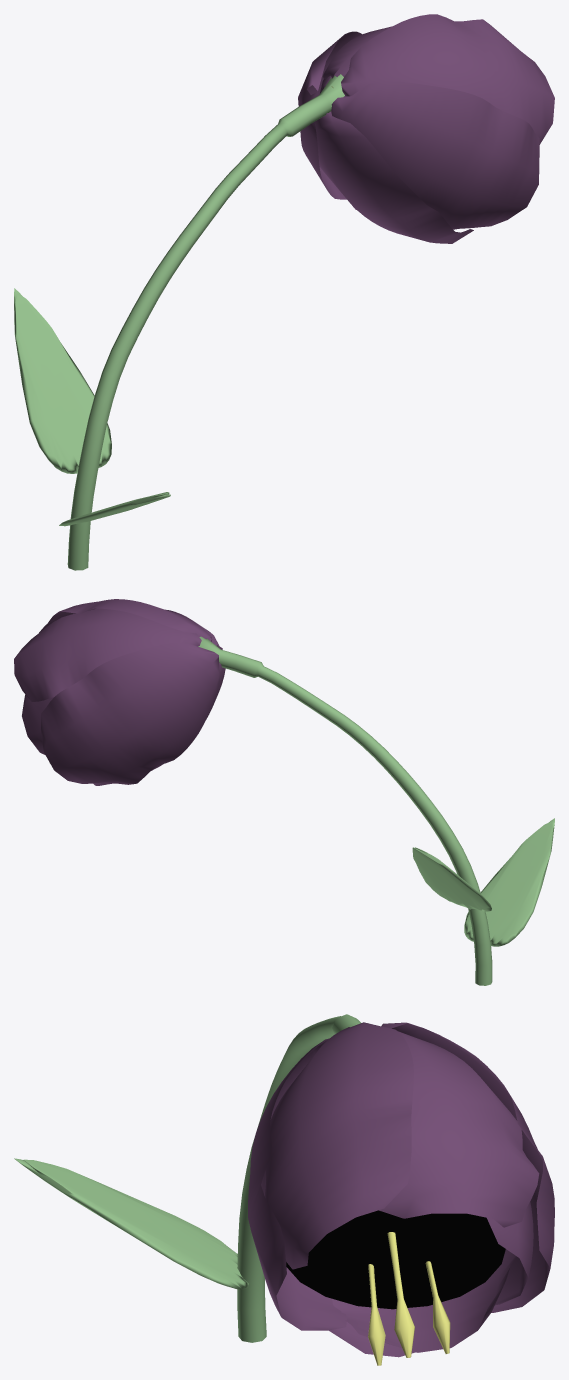
The model's file is morninggloryc.fbx.
3 views of the same model, one above another, from view 1: azimuth 30°, elevation 25°; view 2: azimuth 150°, elevation 25°; view 3: azimuth 270°, elevation 25° (orthographic). The views are drawn at different scales.
Visible parts, largest first — view 1: polySurface43; view 2: polySurface43; view 3: polySurface43.
Part boxes in pixels (x1,y1,x2,y2): polySurface43: (14,14,554,570); polySurface43: (14,599,554,985); polySurface43: (14,1014,554,1365).
Bounding box in the file's own units: 1.43 × 1.03 × 0.9421.
